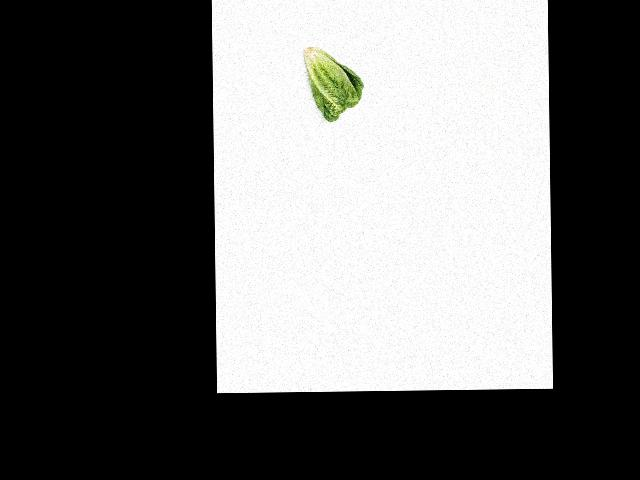lettuce: (302, 44, 363, 121)
